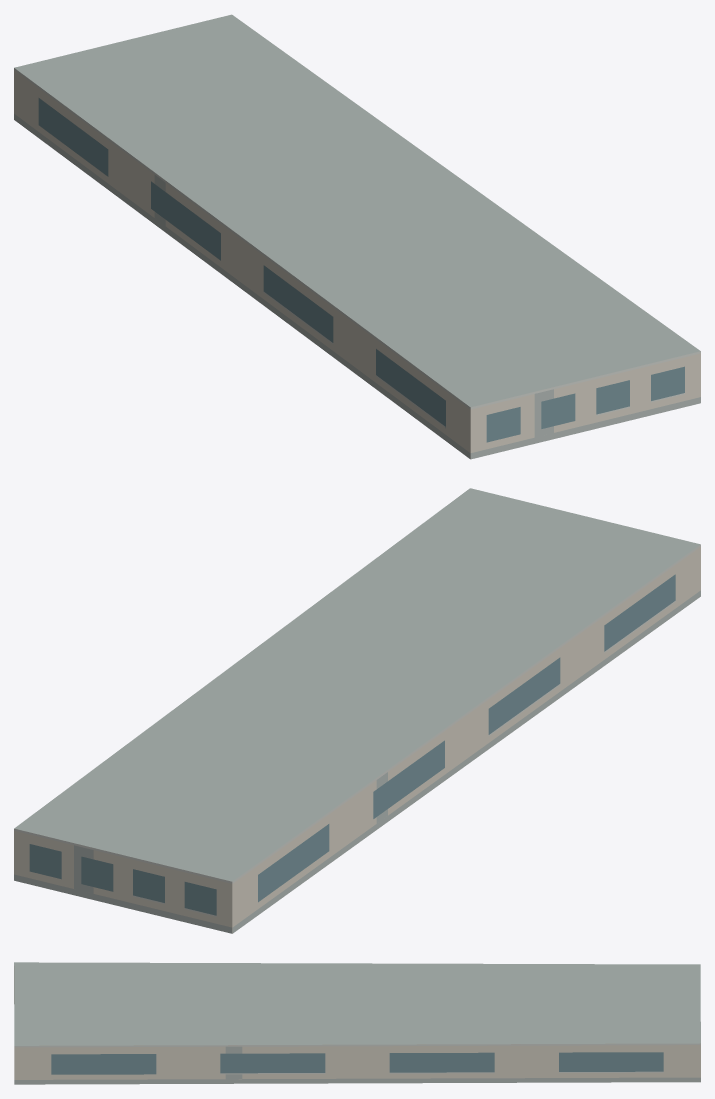
File: survey-upis-32711901.glb
3 renders of one model, top to bottom at view 1: azimuth 30°, elevation 25°; view 2: azimuth 150°, elevation 25°; view 3: azimuth 270°, elevation 25°, orthographic. The views are drawn at different scales.
Visible parts, largest first — view 1: survey-upis-32711901.tmp; view 2: survey-upis-32711901.tmp; view 3: survey-upis-32711901.tmp.
Part boxes in pixels (<box>): survey-upis-32711901.tmp: <box>14,14,700,459</box>; survey-upis-32711901.tmp: <box>14,488,700,933</box>; survey-upis-32711901.tmp: <box>14,962,700,1084</box>.
Size of the model in its own units: 14.14 by 3.05 by 49.13.
